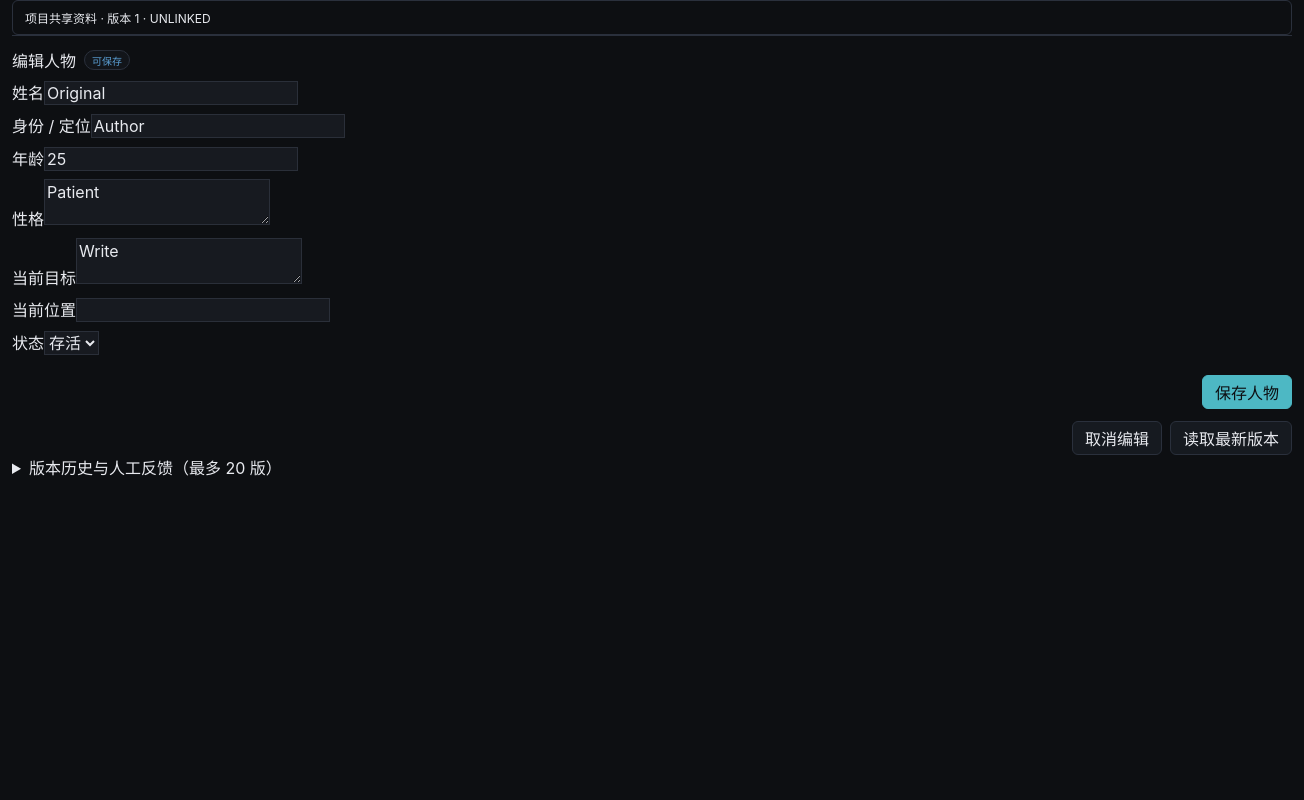
Test: preserves dirty local edits when feedback advances the metadata version
Replace the text in the field labelled "姓名" with "Unsubmitted edits" at (171, 93), box [44,81,298,105]
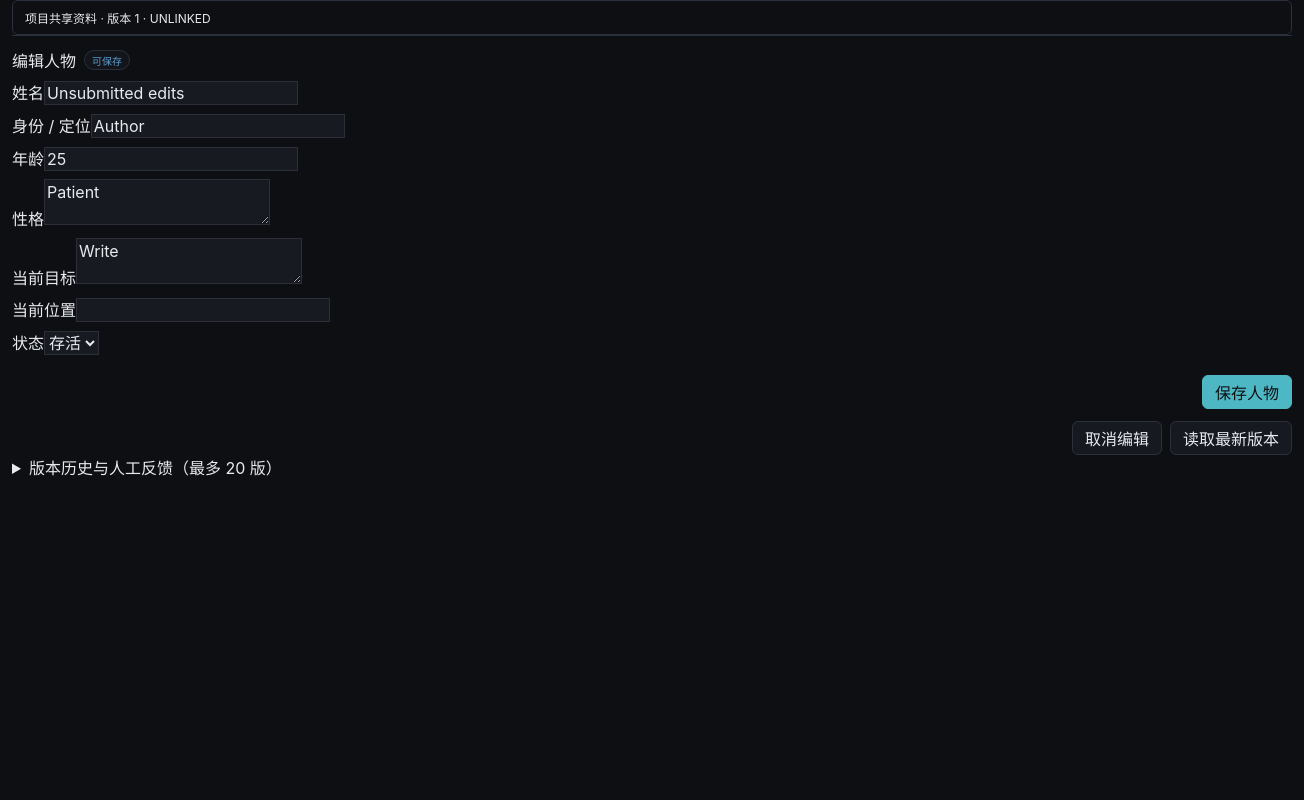
Click the heading "版本历史与人工反馈（最多 20 版）".
click(155, 468)  # box [29,458,282,478]
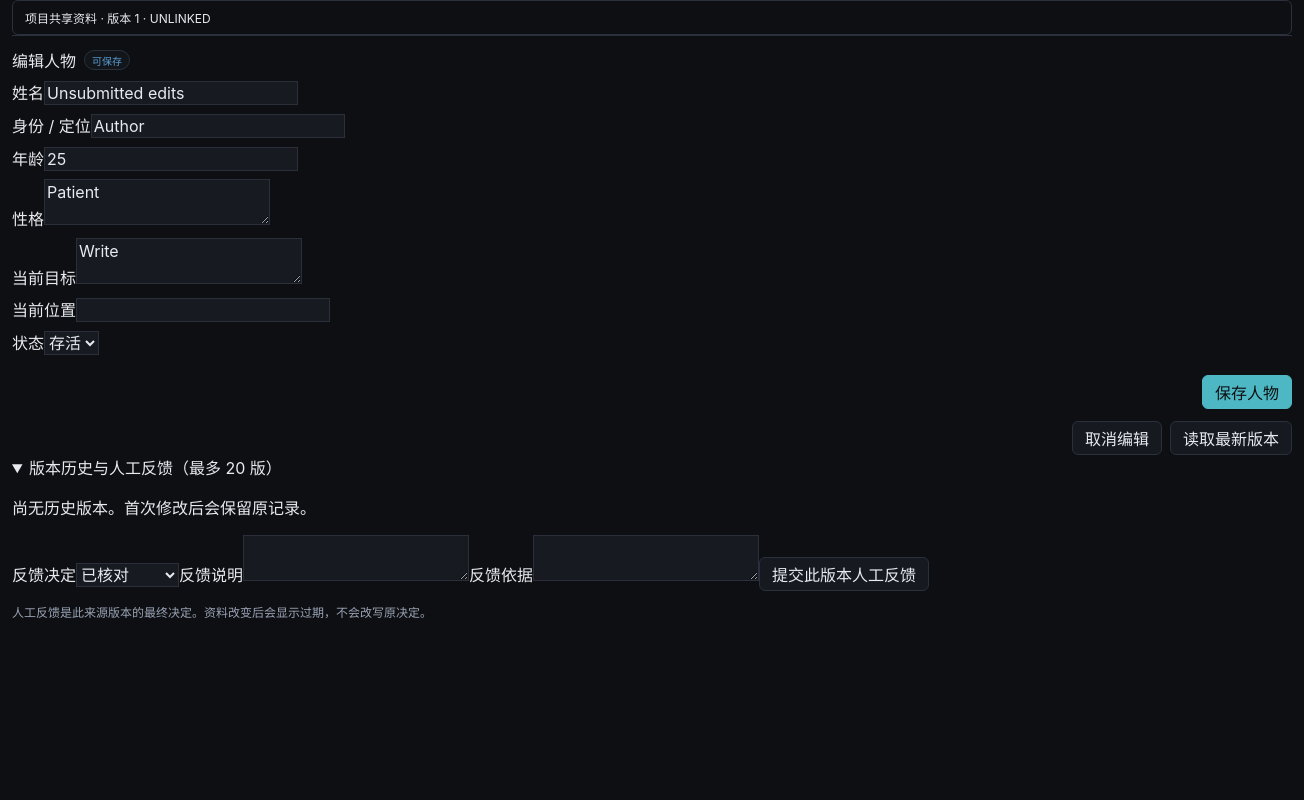
Type "Known source" into the text box labelled "反馈依据".
click(646, 558); type("Known source")  # box [533,535,759,581]
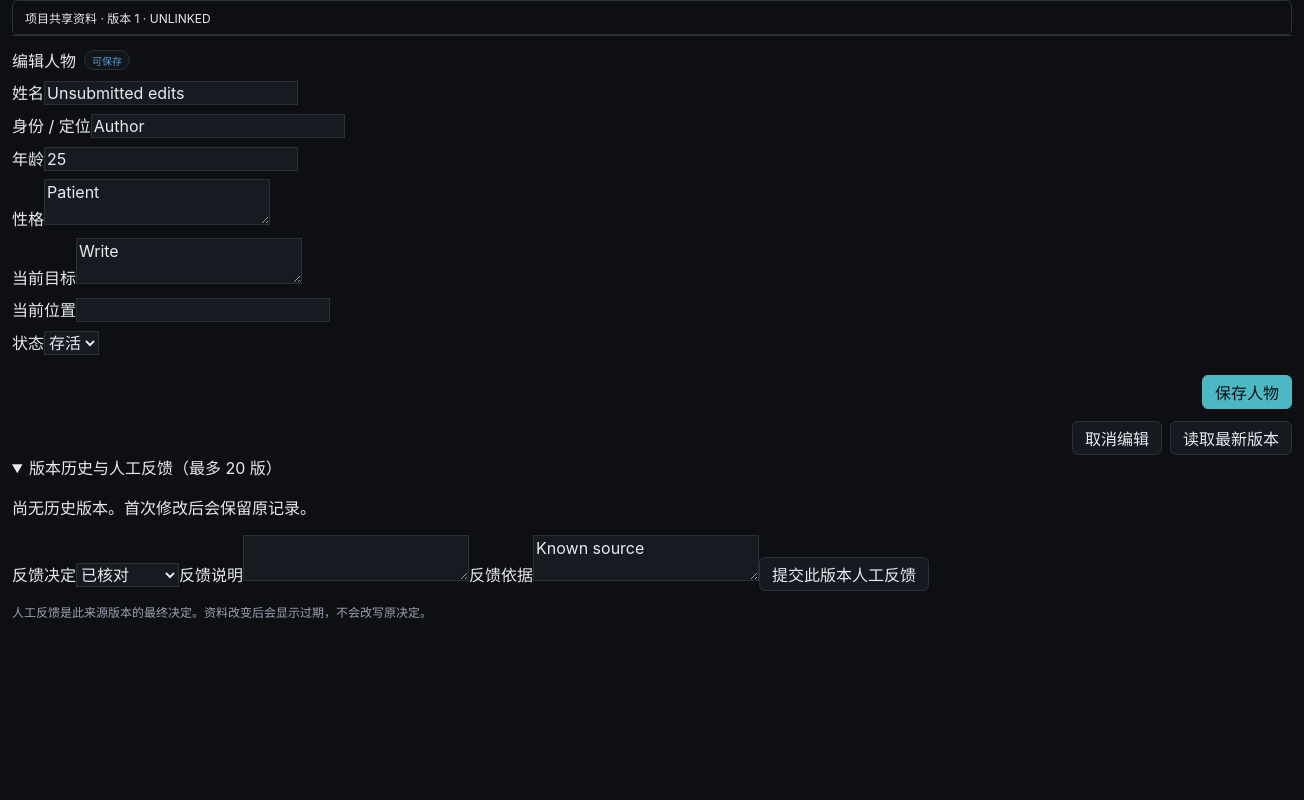
Click the button "提交此版本人工反馈".
click(844, 574)  # box [759,557,929,591]
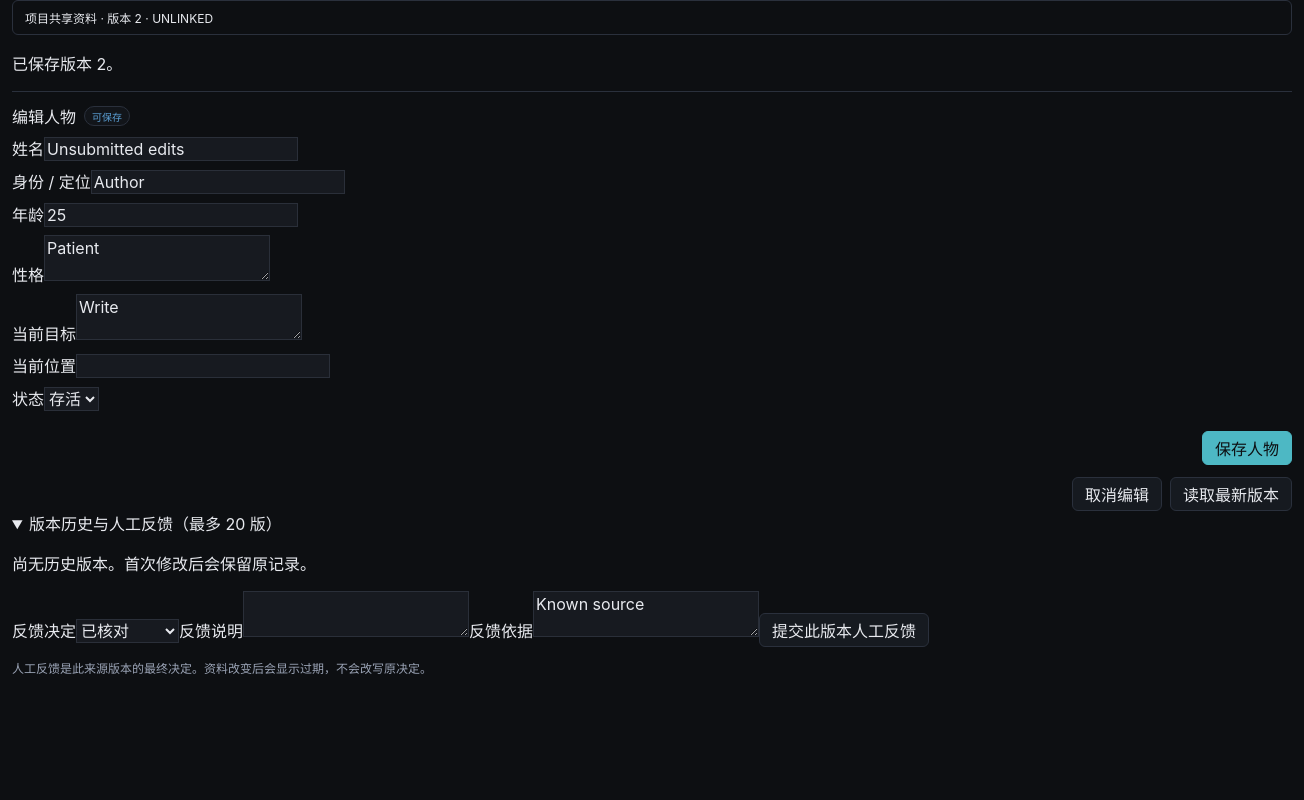
Now the text "已保存版本 2。" is shown, box [12,54,122,74]
